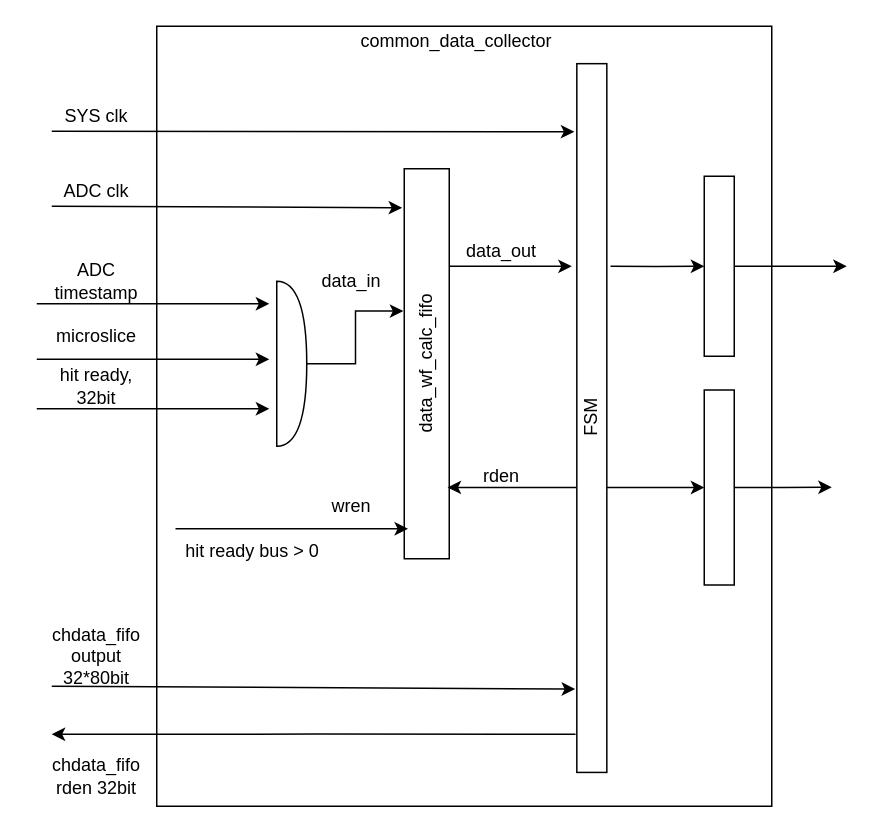
This 885x833 diagram has some shape labels left out. The box of each missing label's shape, as (x1, y1, x2, y2) in pixels:
common_data_fifo: (703, 175, 734, 356)
common_header_fifo: (703, 388, 734, 585)
